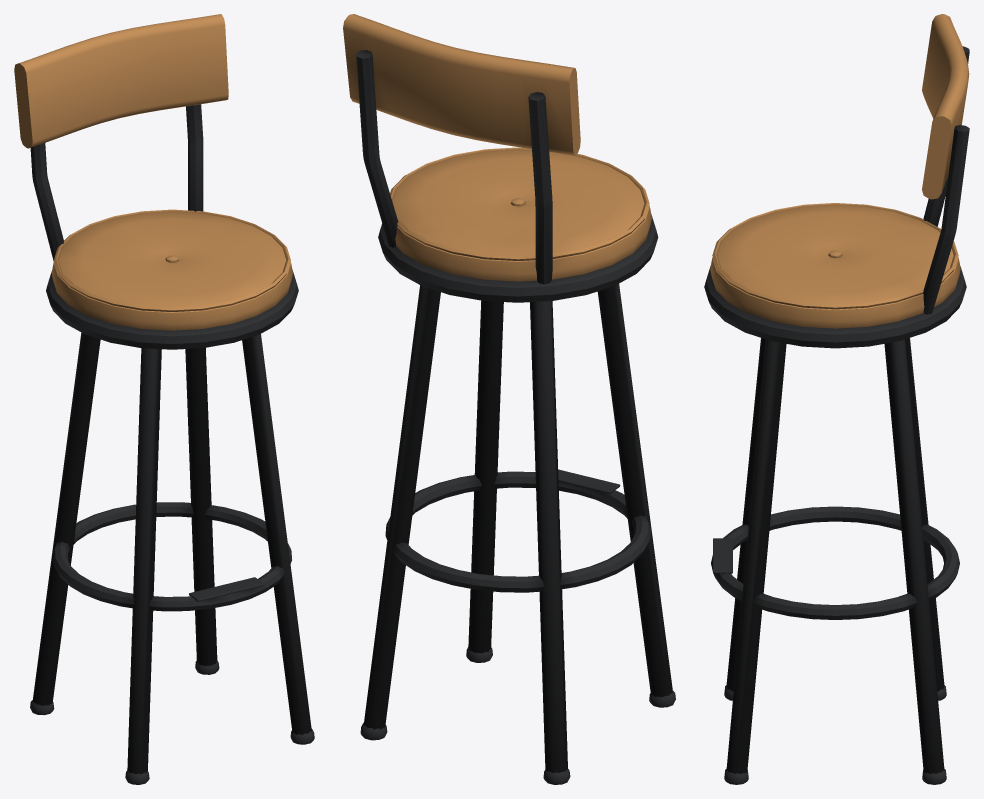
File: stoolBarHigh.glb
The picture shows the model from 3 angles, left to right: view 1: azimuth 30°, elevation 25°; view 2: azimuth 150°, elevation 25°; view 3: azimuth 270°, elevation 25°; orthographic projection. The views are drawn at different scales.
Parts seen in each view (by area): view 1: seat, base; view 2: seat, base; view 3: seat, base.
Part boxes in pixels (x1,y1,x2,y2): seat: (14, 14, 298, 349); base: (30, 332, 314, 784); seat: (343, 14, 658, 302); base: (360, 284, 675, 784); seat: (704, 14, 969, 348); base: (711, 338, 959, 784).
Bounding box in the file's own units: 0.394 × 1.11 × 0.3985.
